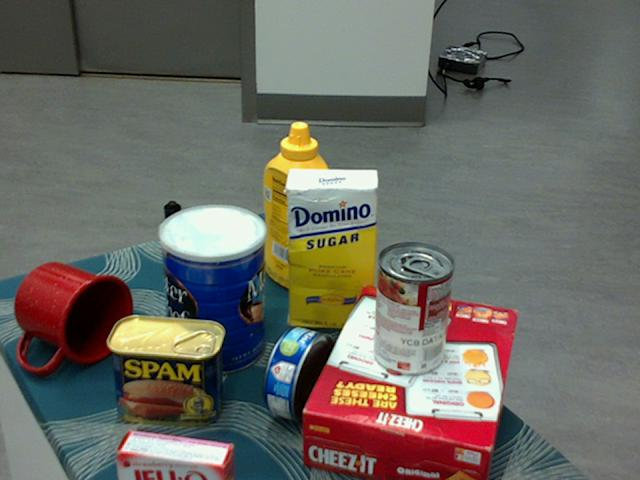cracker_box: (301, 287, 516, 479)
gelatin_box: (113, 428, 230, 479)
large_marker: (164, 200, 183, 300)
master_chef_can: (159, 205, 266, 376)
mug: (14, 261, 132, 372)
mustard_bottle: (262, 121, 332, 295)
potted_meat_can: (106, 313, 224, 425)
sugar_box: (286, 167, 378, 331)
tomato_soup_can: (371, 243, 454, 377)
tuna_fish_can: (263, 327, 335, 424)
